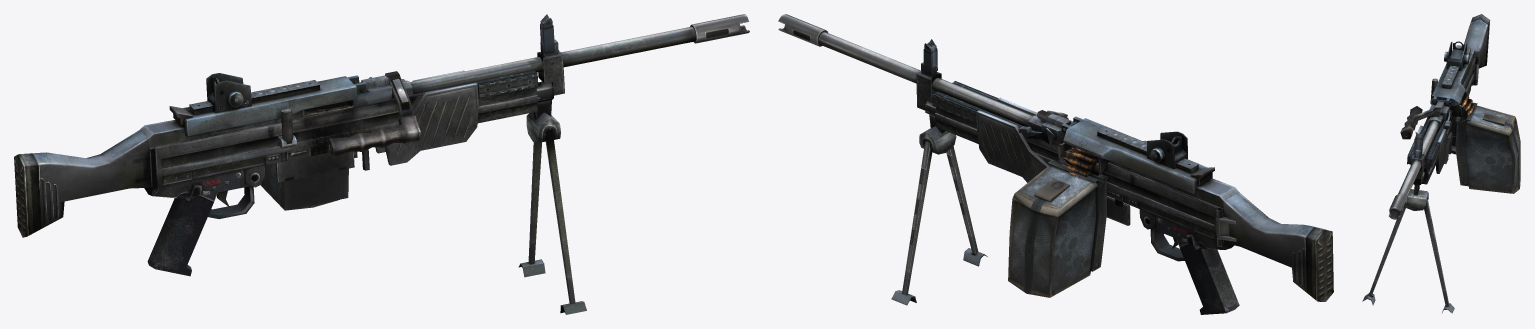
File: Weapon_3010.fbx
3 renders of one model, left to right at view 1: azimuth 30°, elevation 25°; view 2: azimuth 150°, elevation 25°; view 3: azimuth 270°, elevation 25°, orthographic. The views are drawn at different scales.
Parts seen in each view (by area): view 1: Weapon_3030, Weapon_3030_clip, Weapon_3030_Reloader; view 2: Weapon_3030, Weapon_3030_clip; view 3: Weapon_3030, Weapon_3030_clip.
Boxes of the visible parts, left/top/right/bottom form: Weapon_3030: left=14, top=14, right=749, bottom=314; Weapon_3030_clip: left=260, top=163, right=348, bottom=210; Weapon_3030_Reloader: left=277, top=108, right=296, bottom=148; Weapon_3030: left=778, top=14, right=1333, bottom=314; Weapon_3030_clip: left=1008, top=159, right=1107, bottom=297; Weapon_3030: left=1362, top=14, right=1490, bottom=313; Weapon_3030_clip: left=1455, top=102, right=1520, bottom=193.
Bounding box in the file's own units: 155 × 61.13 × 48.92.
